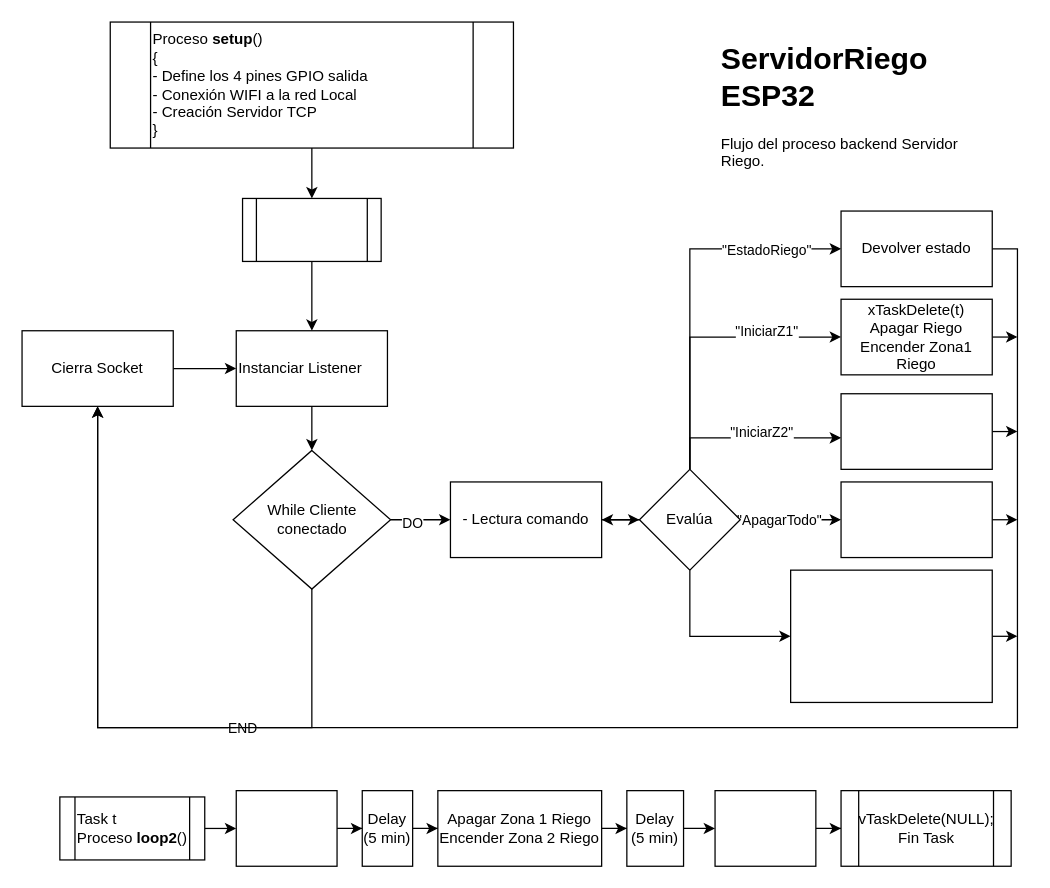
This 1050x888 diagram has some shape labels left out. Each missing label, with the box of its shape:
Apagar Zona 2 Riego: (714, 789, 816, 866)
Encender Zona 1 Riego: (235, 789, 337, 866)
Iniciar Programa t=xTaskCreate() loop2: (789, 569, 992, 702)
Proceso loop (): (241, 197, 381, 261)
xTaskDelete(t) Apagar Riego: (840, 481, 992, 558)
xTaskDelete(t) Apagar Riego Encender Zona2 Riego: (840, 392, 992, 469)
